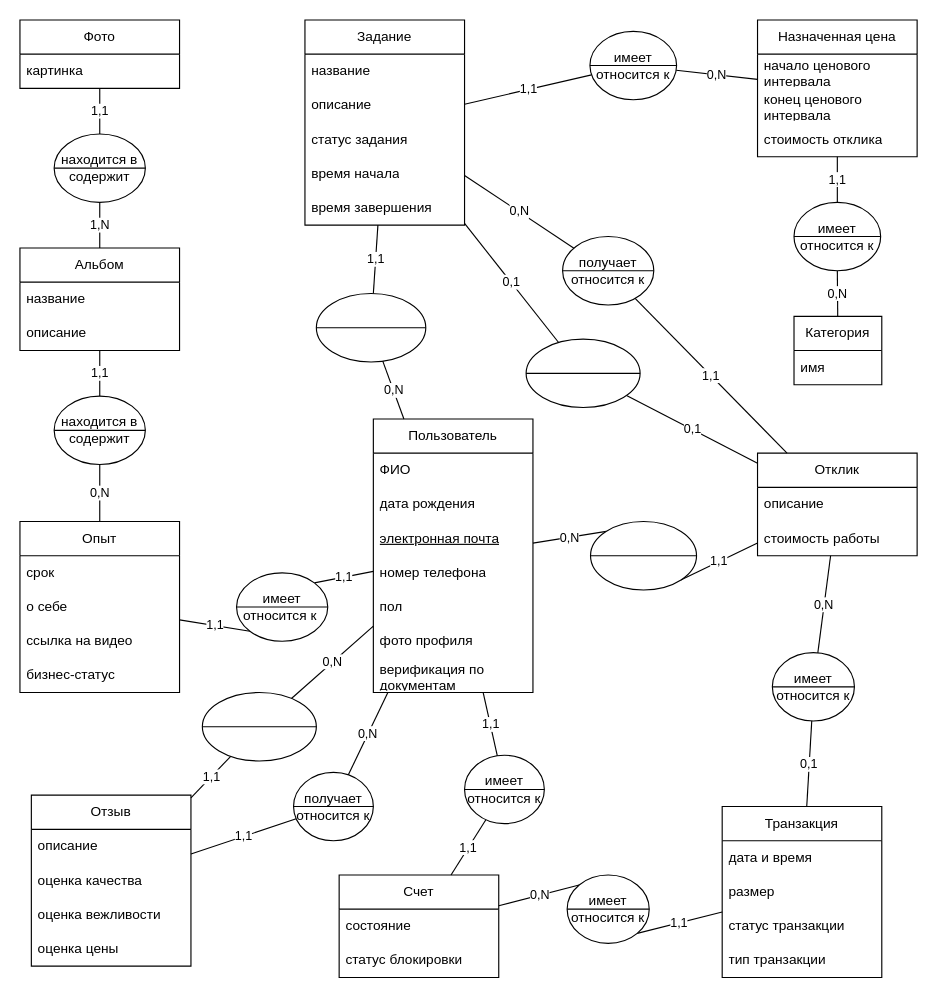
Image size: 937x998. Some labels were removed from this diagram. Here are the shapes that lost their labels. From the top down, the centre of each, then its label:
At point 370,327: "имеет автором публикует".
At point 582,373: "выбирает закрепляется за".
At point 643,555: "публикует имеет автором".
At point 258,726: "пишет имеет автором".
